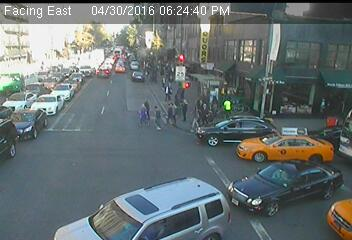neg: (76, 178, 115, 230), (31, 97, 63, 139), (2, 61, 29, 97), (291, 112, 308, 135), (108, 50, 124, 71), (34, 43, 47, 61), (149, 71, 161, 88), (56, 82, 68, 98), (80, 67, 91, 83), (89, 44, 97, 54), (136, 68, 141, 76)
